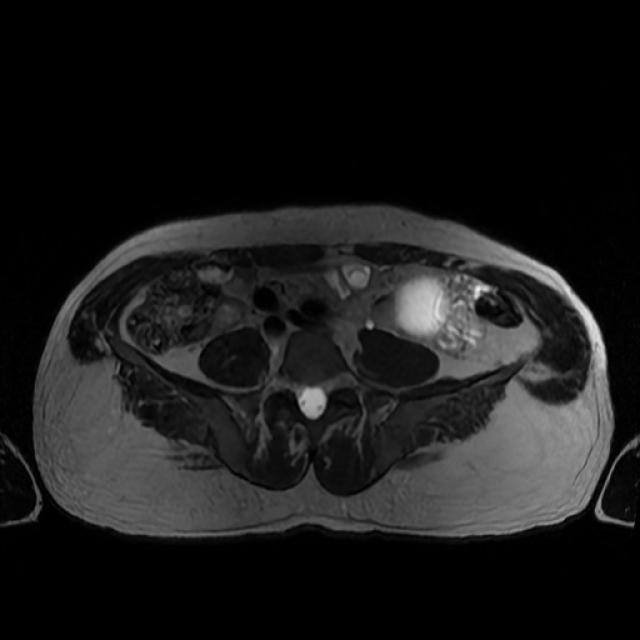sol: (396, 277, 450, 335)
